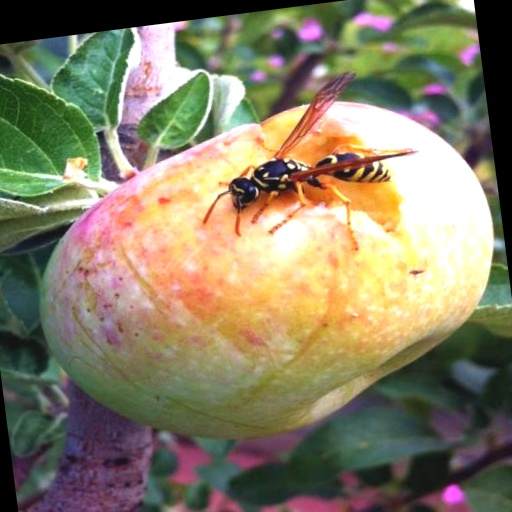fruit: (42, 103, 492, 438)
